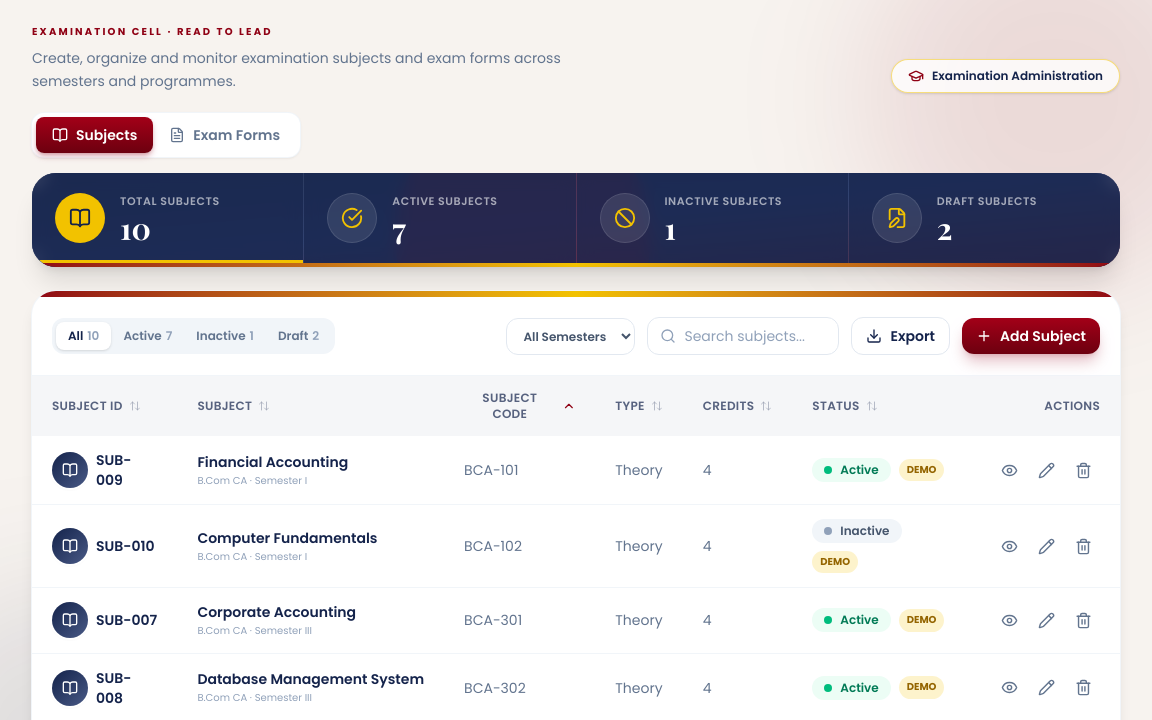
Test case: secondary admin pages › renders examination subjects and exam forms
This screenshot has width=1152, height=720.
Expected: the text "Create, organize and monitor examination subjects" is shown, [32, 48, 561, 91]
Click the button "Exam Forms": (225, 134) [153, 116, 296, 152]
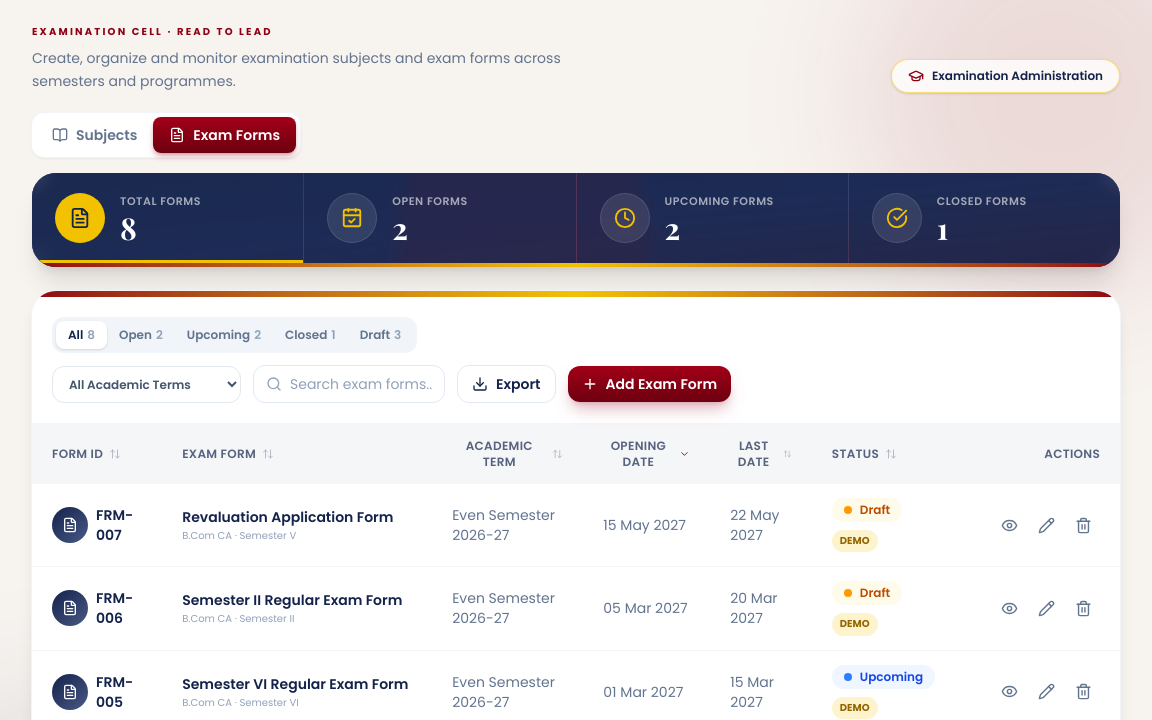
Click the button titled "View": (1010, 525) [993, 509, 1026, 542]
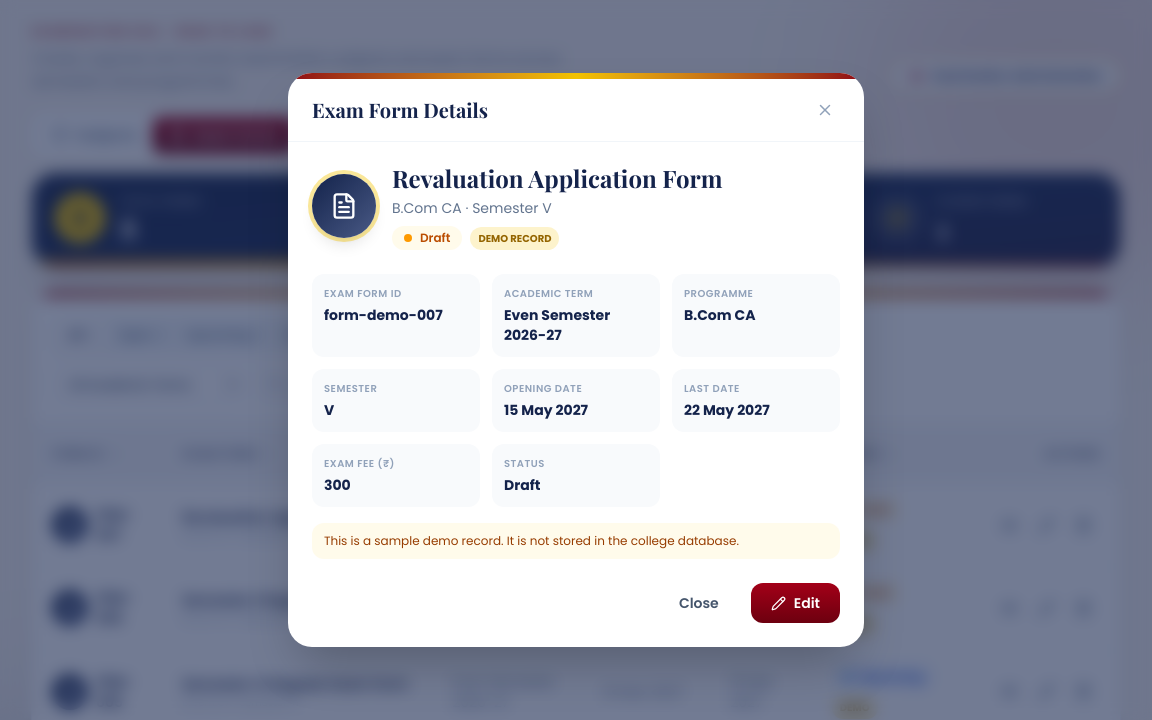
Expected: the dialog "Exam Form Details" is shown
